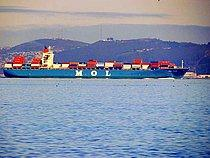Ship: (3, 48, 193, 82)
